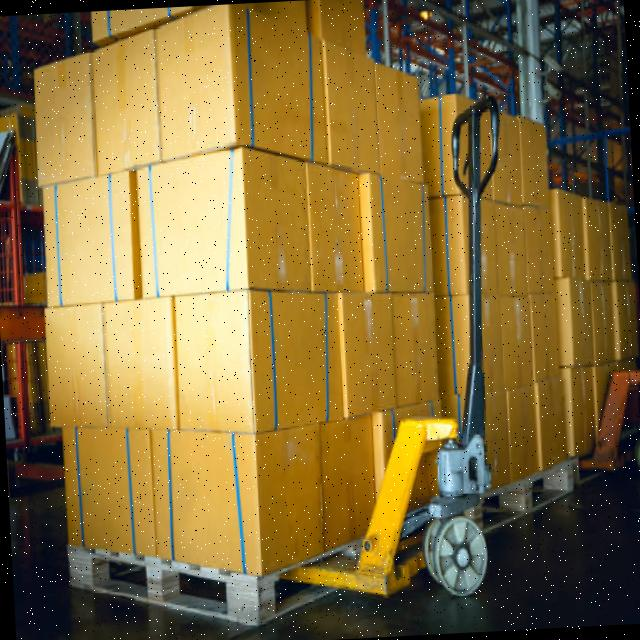Wooden-Pallets: (65, 546, 339, 625), (483, 453, 581, 538)
